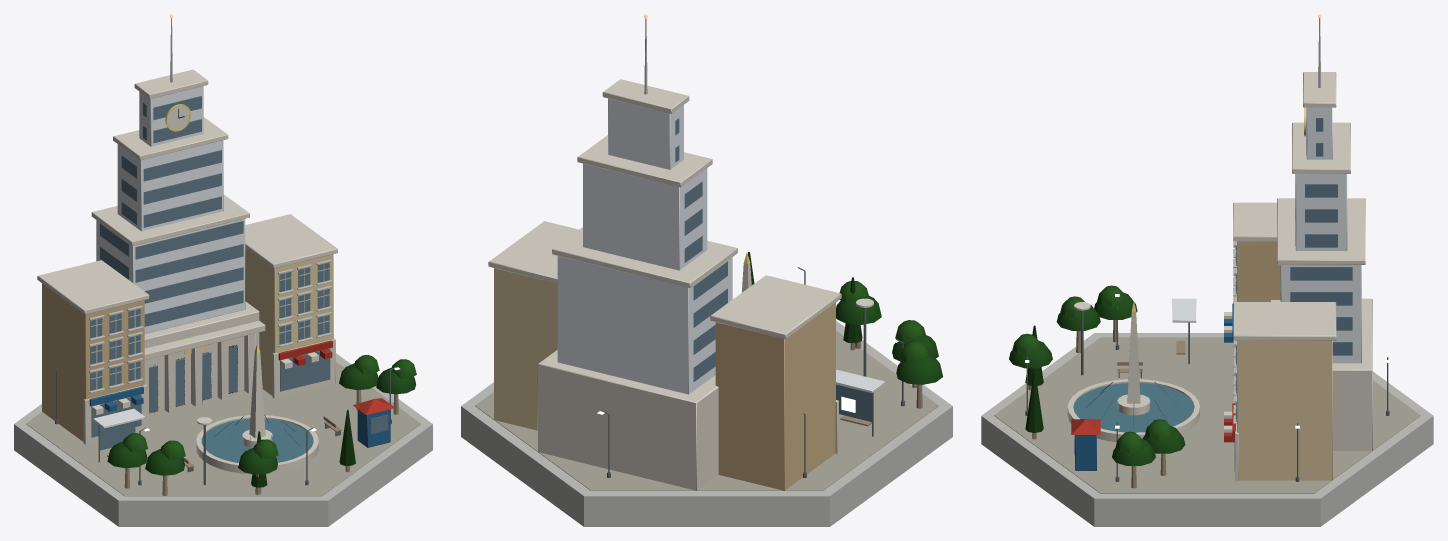
The model's file is cityCenter_med.glb.
The picture shows the model from 3 angles, left to right: view 1: azimuth 30°, elevation 25°; view 2: azimuth 150°, elevation 25°; view 3: azimuth 270°, elevation 25°; orthographic projection. The views are drawn at different scales.
Visible parts, largest first — view 1: stone, glass, wall_concrete, pavers, plaster, cladding, leaf, paint, steel_dark, wood; view 2: stone, cladding, plaster, wall_concrete, pavers, leaf, glass, steel_dark; view 3: pavers, stone, wall_concrete, plaster, glass, cladding, leaf, paint, steel_dark, wood.
Part boxes in pixels (box(x1,y1,x2,y2)): stone: box(37, 69, 337, 474); glass: box(90, 96, 388, 462); wall_concrete: box(14, 259, 432, 526); pavers: box(26, 361, 420, 496); plaster: box(42, 248, 333, 441); cladding: box(93, 86, 245, 428); leaf: box(107, 355, 416, 487); paint: box(89, 106, 394, 447); steel_dark: box(55, 367, 396, 485); wood: box(107, 390, 398, 495); stone: box(488, 79, 841, 490); cladding: box(557, 98, 884, 394); plaster: box(494, 268, 835, 490); wall_concrete: box(461, 321, 952, 526); pavers: box(475, 330, 938, 490); leaf: box(747, 252, 942, 384); glass: box(675, 118, 871, 421); steel_dark: box(602, 267, 904, 477); pavers: box(994, 337, 1420, 493); stone: box(1067, 72, 1372, 481); wall_concrete: box(981, 241, 1433, 526); plaster: box(1237, 241, 1332, 480); glass: box(1073, 108, 1352, 471); cladding: box(1172, 107, 1361, 363); leaf: box(1009, 285, 1185, 465); paint: box(1071, 302, 1235, 470); steel_dark: box(1025, 291, 1389, 481); wood: box(1028, 320, 1185, 488).
Size of the model in its own units: 21.3 by 25.76 by 24.6.
